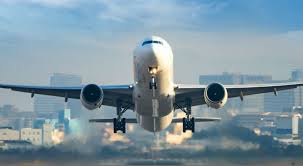maybay_dansu: (1, 34, 300, 134)
